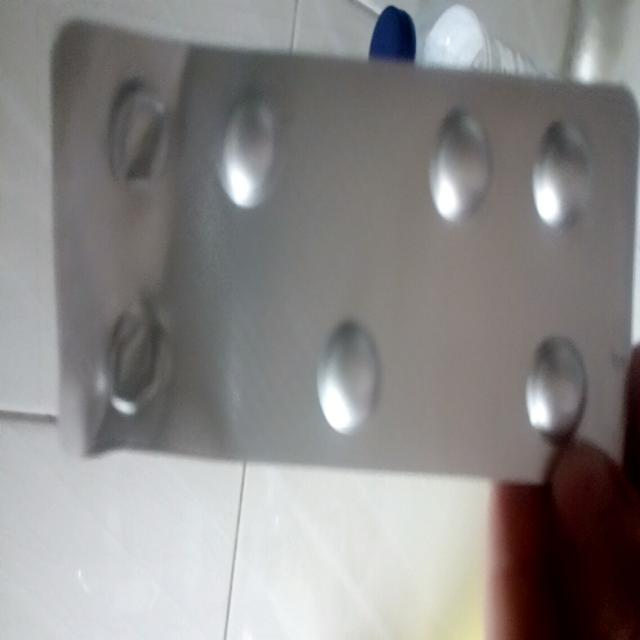Empty: (91, 294, 176, 420), (104, 74, 174, 198)
Pill: (307, 302, 388, 448), (417, 98, 503, 232), (522, 110, 607, 244), (210, 80, 284, 214), (519, 324, 594, 456)
